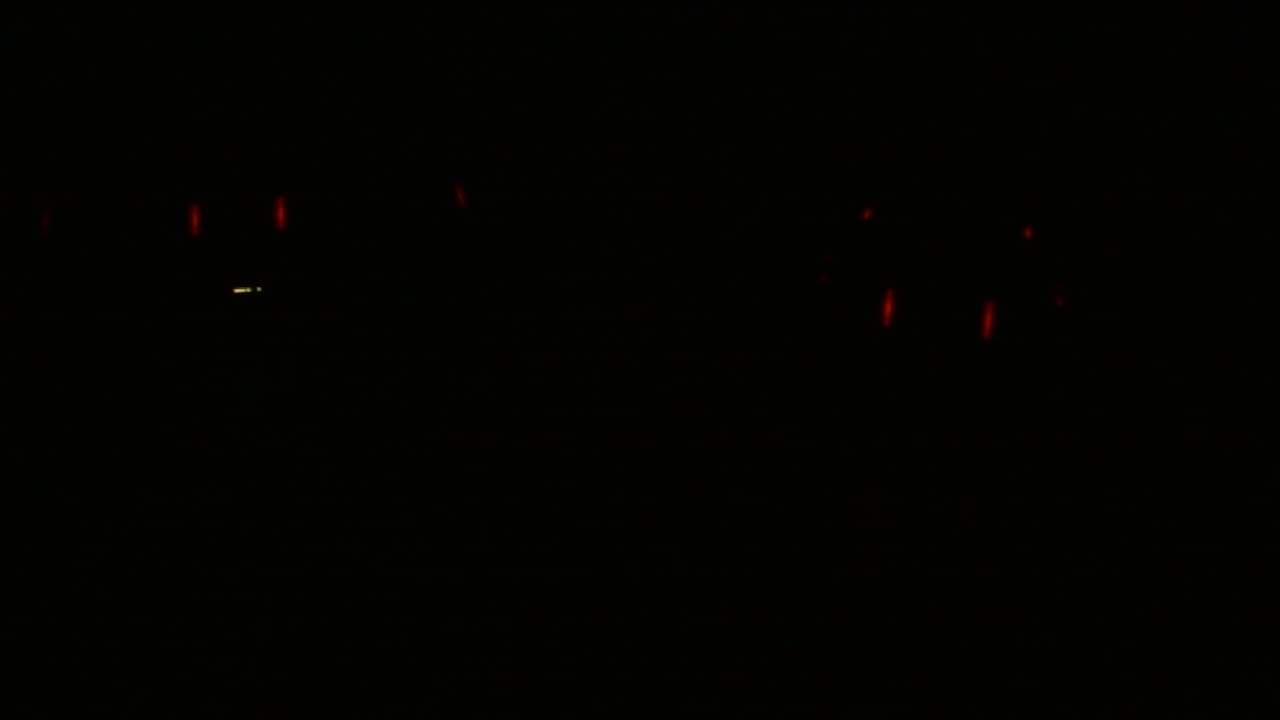pair1: (175, 189, 304, 255)
pair2: (875, 282, 1004, 348)
